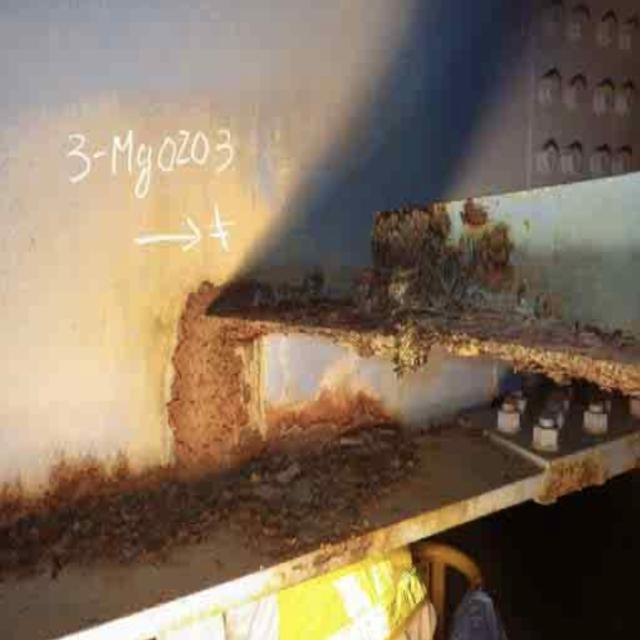corrosion: (14, 191, 633, 590)
